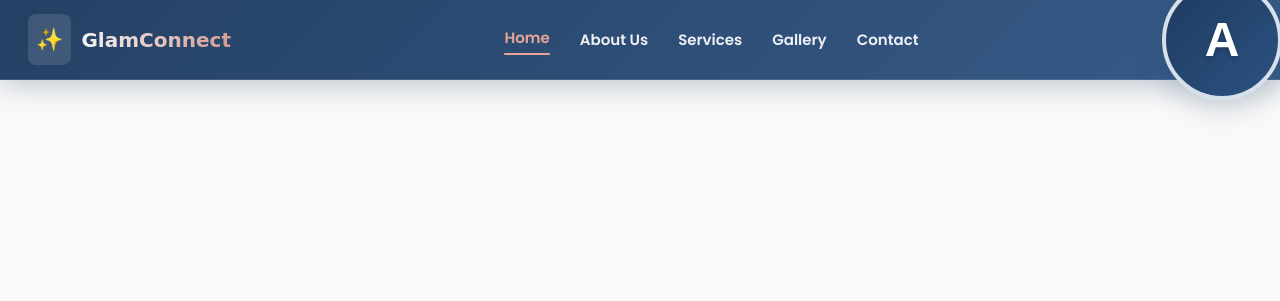
Test: Navbar › opens dropdown showing email when profile button is clicked
The image size is (1280, 301).
Click the button "A": (1222, 40) [1192,17,1252,62]
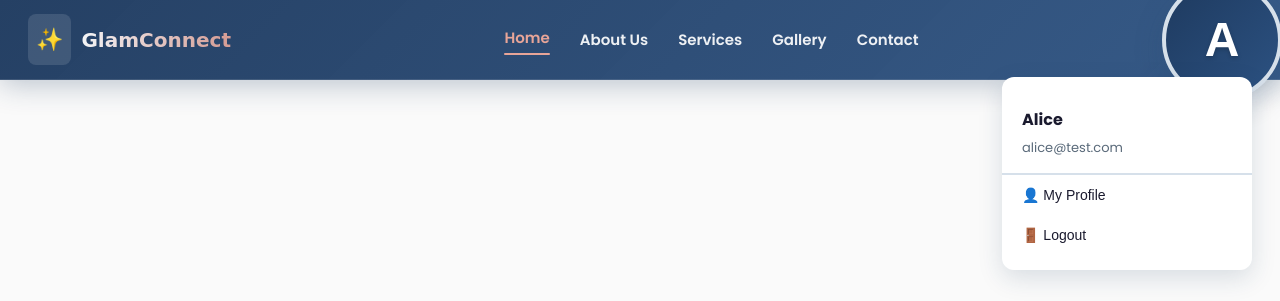
Check: the text "alice@test.com" is shown, box [1022,138,1123,157]
